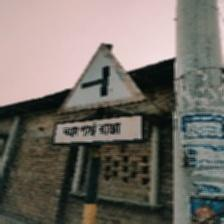Side-road-left: (52, 42, 150, 147)
